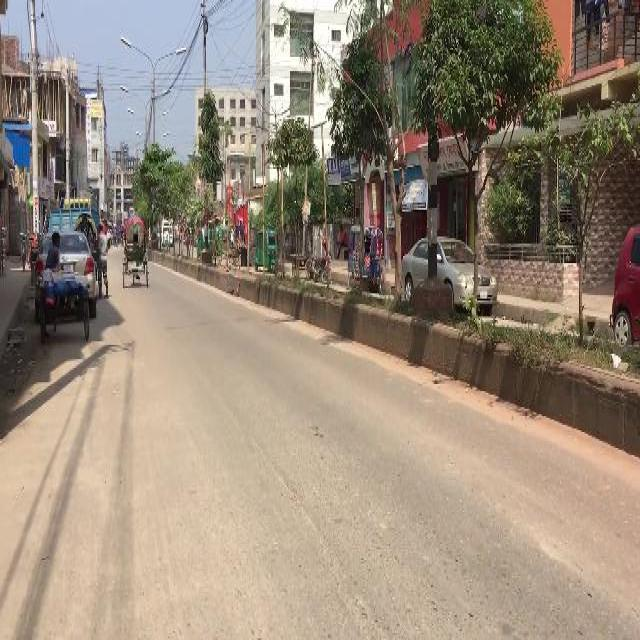10: (313, 252, 332, 281)
13: (122, 216, 148, 285)
17: (253, 228, 277, 270)
5: (402, 230, 500, 310), (35, 233, 97, 307), (607, 220, 639, 342)
Motorcycle: (20, 228, 26, 270)
